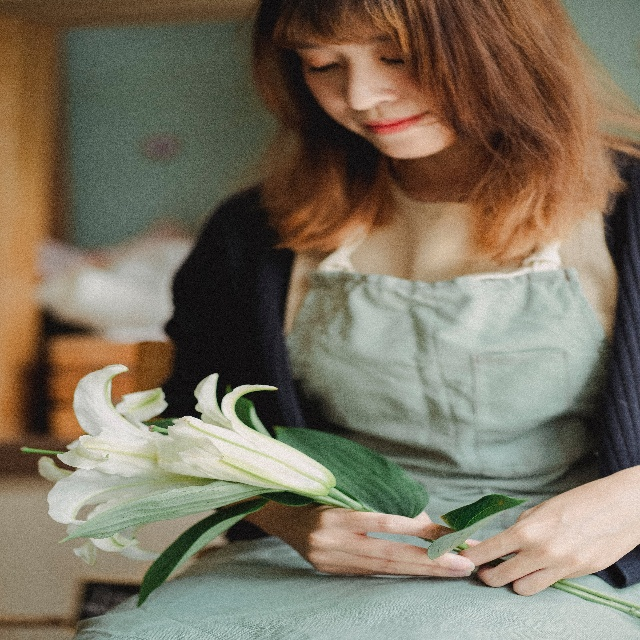Sin_guantes: (462, 469, 640, 607), (306, 494, 472, 584)
